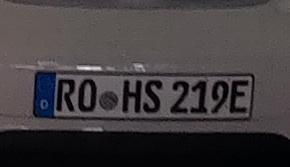1: (189, 79, 209, 115)
2: (170, 80, 190, 115)
9: (209, 79, 230, 115)
E: (229, 79, 249, 114)
H: (121, 79, 142, 114)
O: (76, 78, 98, 113)
R: (55, 78, 75, 113)
S: (142, 79, 163, 114)
